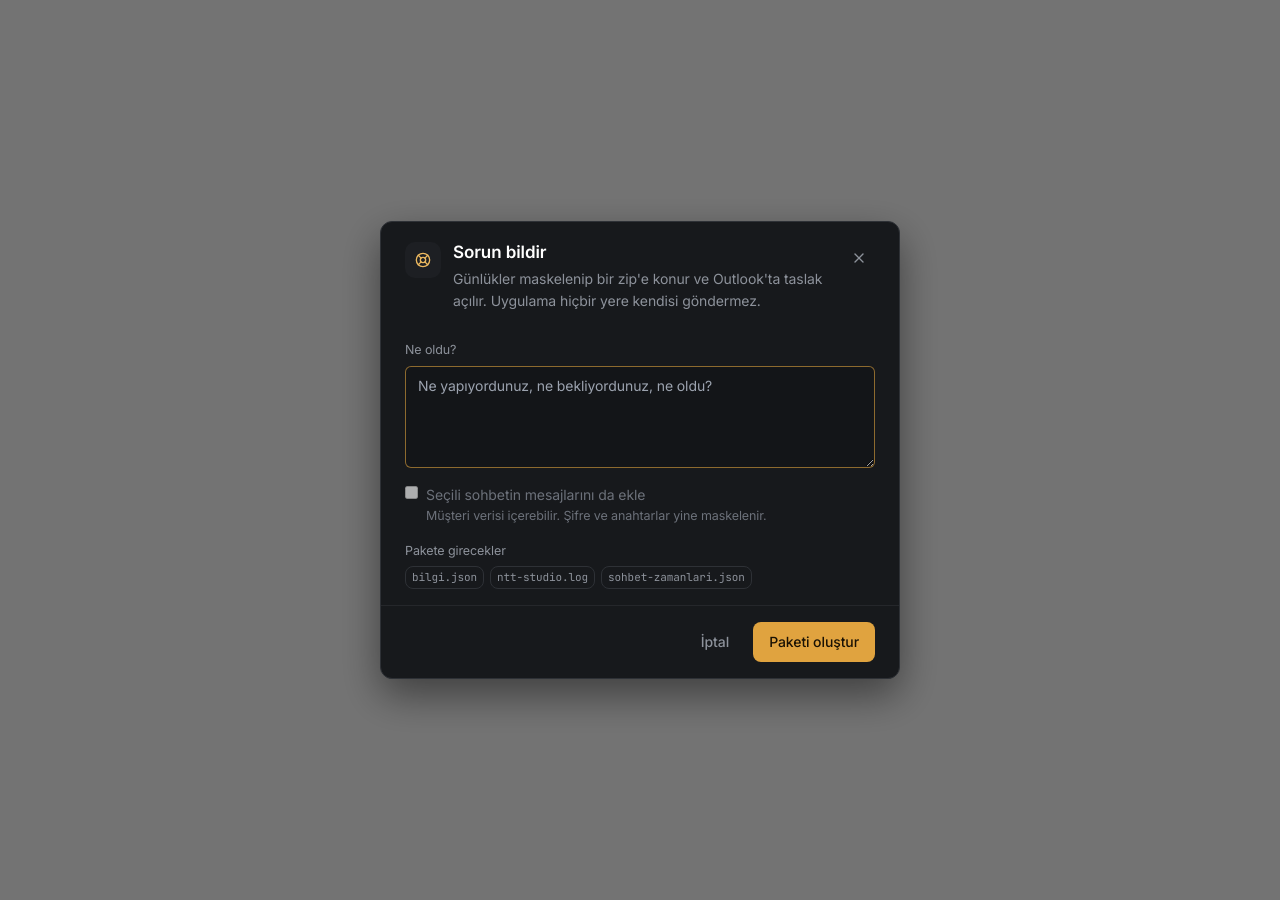
it: SupportDialog › SupportDialog — IPC reddi (inceleme M4) › supportCreate reddederse pencere meşgul kalmıyor, hata gösteriliyor
The image size is (1280, 900).
Click the button "Paketi oluştur" at [814, 642], box [753, 622, 875, 662]
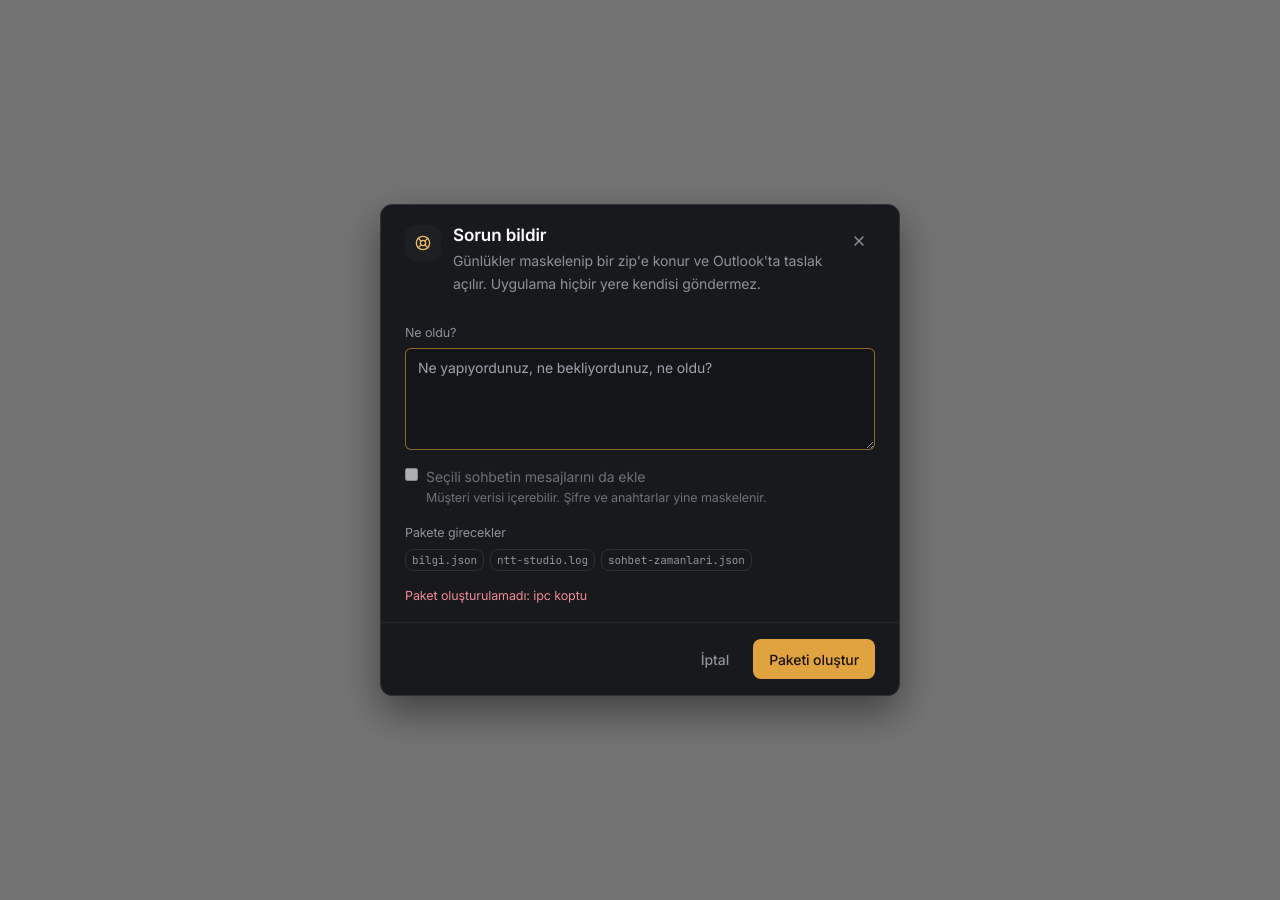
Expected: the button "Paketi oluştur" is enabled, [753, 639, 875, 679]
Expected: the text "Paket oluşturulamadı: ipc koptu" is shown, [405, 588, 587, 603]
